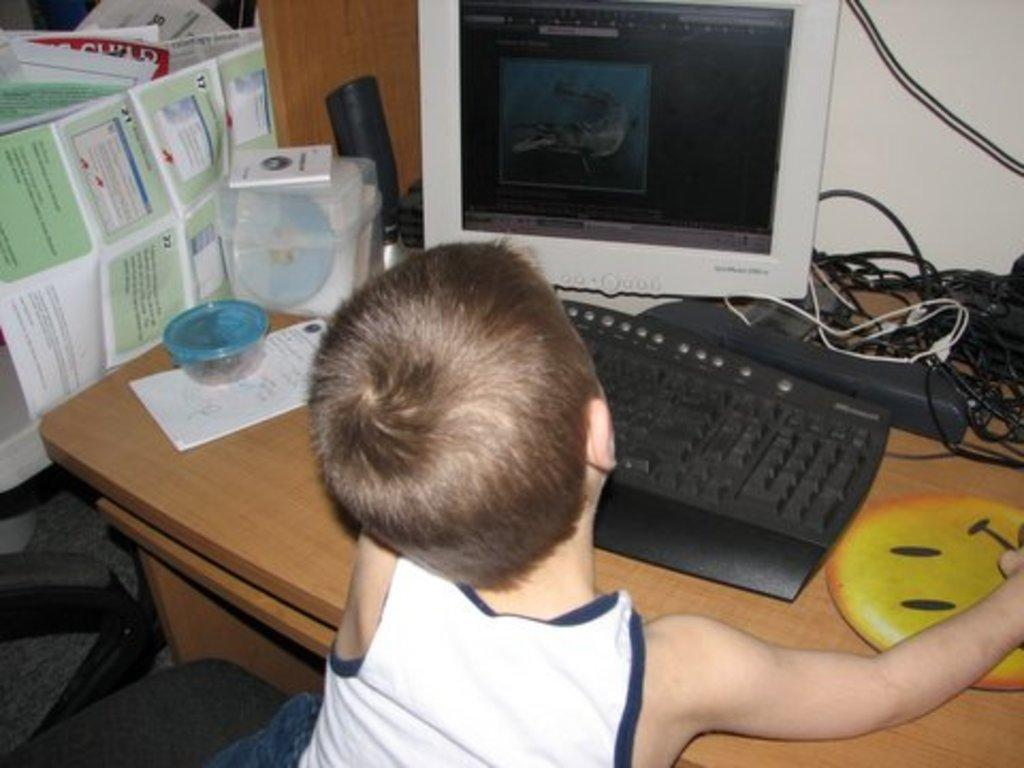Computer-keyboard: (563, 299, 892, 602)
Computer-monitor: (414, 4, 826, 311)
